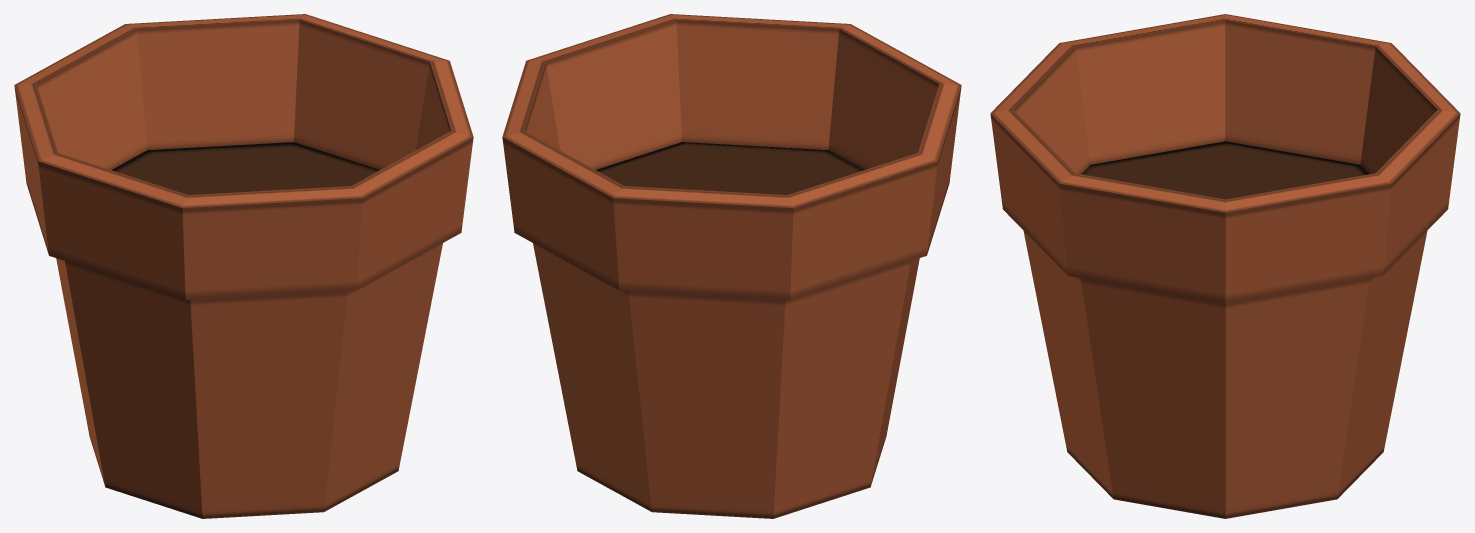
Rendered from Pot.glb.
The picture shows the model from 3 angles, left to right: view 1: azimuth 30°, elevation 25°; view 2: azimuth 150°, elevation 25°; view 3: azimuth 270°, elevation 25°; orthographic projection.
Visible parts, largest first — view 1: Pot; view 2: Pot; view 3: Pot.
Part boxes in pixels (<box>): Pot: <box>14,14,473,518</box>; Pot: <box>502,14,961,518</box>; Pot: <box>990,14,1460,518</box>.
Bounding box in the file's own units: 1.6 × 1.28 × 1.6.
1 material, 1 textured.
